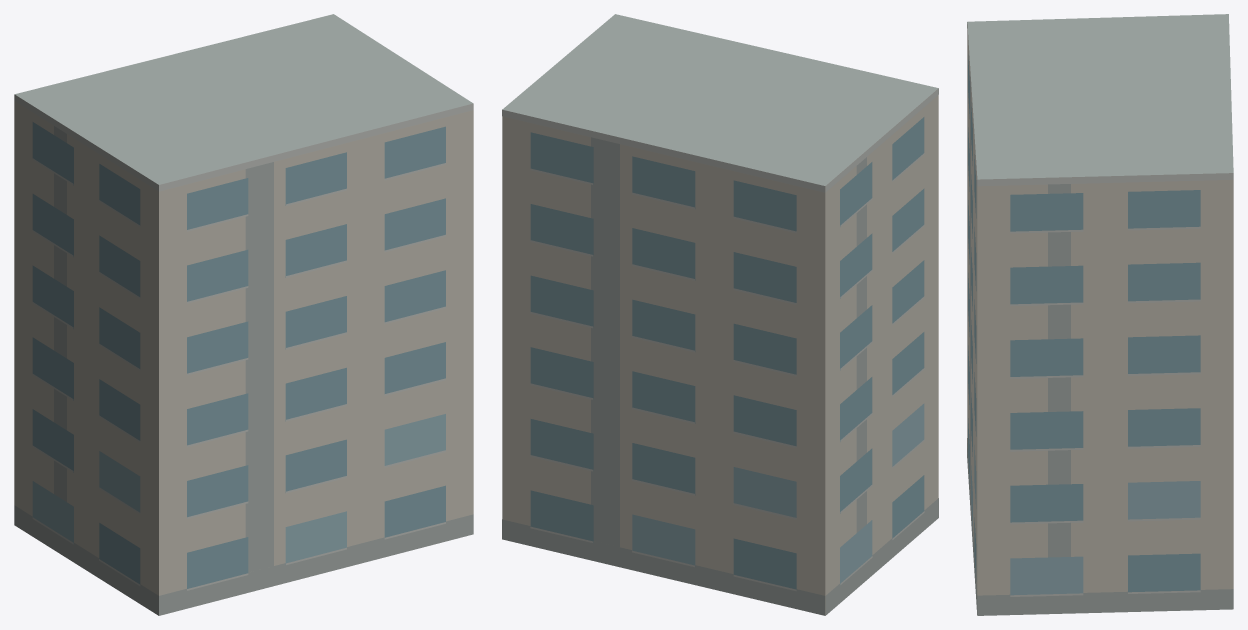
The model's file is survey-upis-32893399.glb.
3 renders of one model, left to right at view 1: azimuth 30°, elevation 25°; view 2: azimuth 150°, elevation 25°; view 3: azimuth 270°, elevation 25°, orthographic.
Visible parts, largest first — view 1: survey-upis-32893399.tmp; view 2: survey-upis-32893399.tmp; view 3: survey-upis-32893399.tmp.
Part boxes in pixels (x1,y1,x2,y2): survey-upis-32893399.tmp: (14, 14, 473, 615); survey-upis-32893399.tmp: (502, 14, 938, 615); survey-upis-32893399.tmp: (967, 14, 1233, 615).
Bounding box in the file's own units: 12.86 × 15.8 × 8.75.
